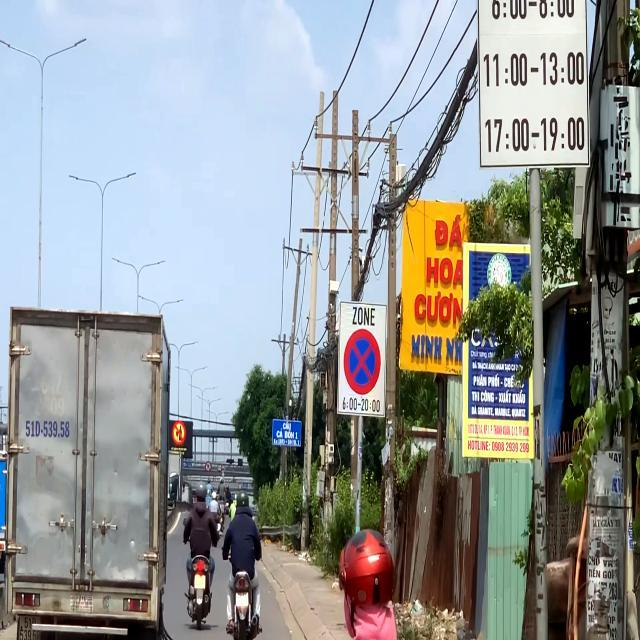P-130: (344, 329, 382, 393)
